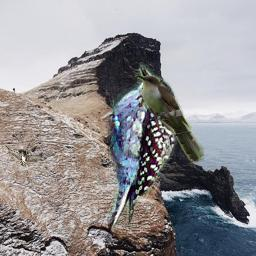Cuckoo: (135, 73, 204, 163)
Swallow: (4, 144, 44, 168)
Woodpecker: (81, 58, 189, 245)
